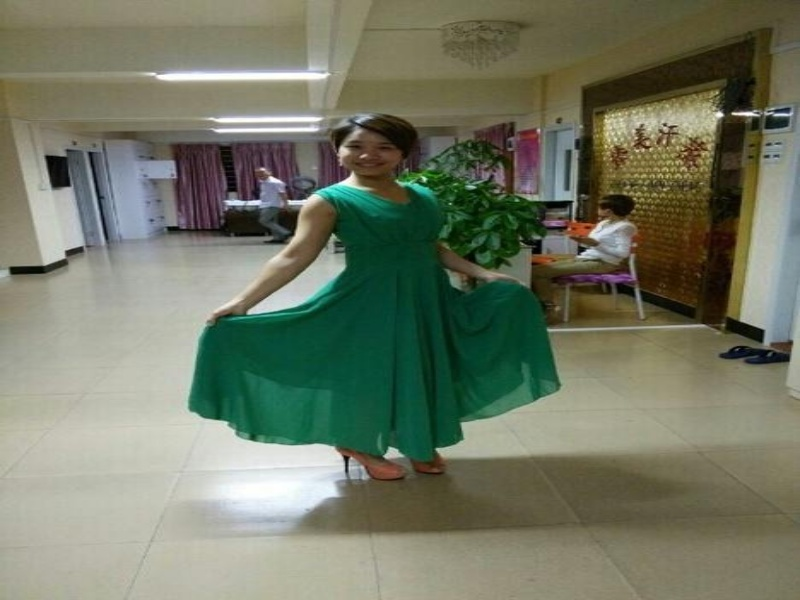long_sleeved_shirt: (568, 216, 641, 269)
trousers: (528, 247, 622, 309)
vest_dress: (186, 183, 564, 466)
